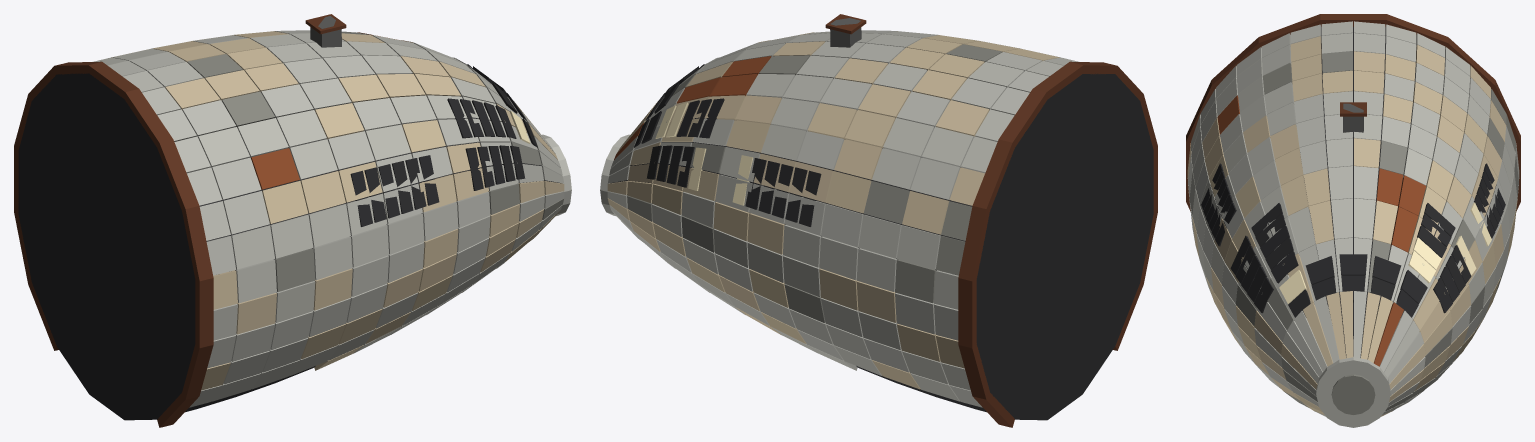
The model's file is ship_nose.glb.
3 renders of one model, left to right at view 1: azimuth 30°, elevation 25°; view 2: azimuth 150°, elevation 25°; view 3: azimuth 270°, elevation 25°, orthographic. The views are drawn at different scales.
Visible parts, largest first — view 1: ship_nose; view 2: ship_nose; view 3: ship_nose.
Part boxes in pixels (<box>): ship_nose: <box>14,14,571,427</box>; ship_nose: <box>600,14,1157,427</box>; ship_nose: <box>1186,14,1520,427</box>.
Size of the model in its own units: 44.9 by 31.79 by 32.27.
